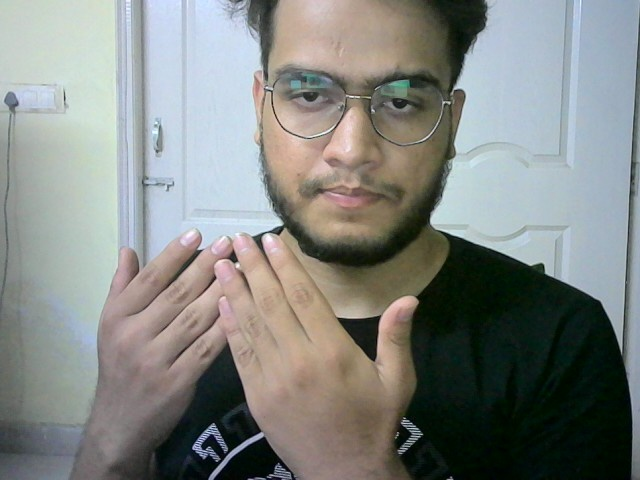Thank You: (94, 226, 433, 433)
